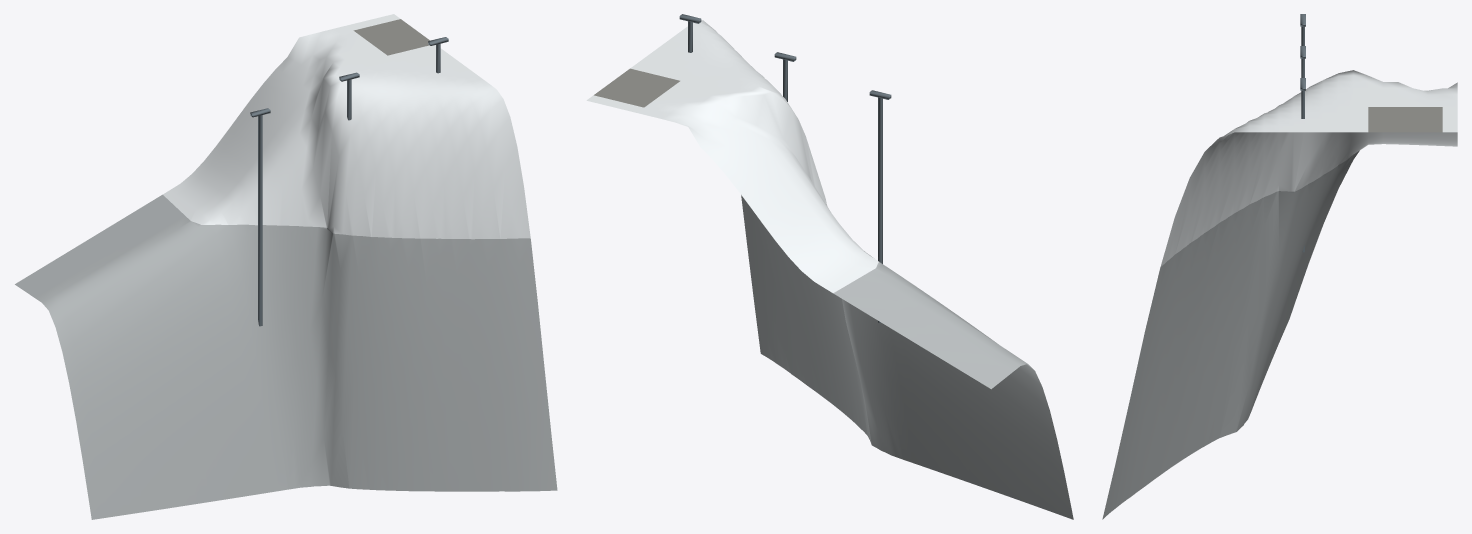
The model's file is alpine-12-12.glb.
The picture shows the model from 3 angles, left to right: view 1: azimuth 30°, elevation 25°; view 2: azimuth 150°, elevation 25°; view 3: azimuth 270°, elevation 25°; orthographic projection. The views are drawn at different scales.
Parts seen in each view (by area): view 1: alpine-12-12; view 2: alpine-12-12; view 3: alpine-12-12.
Boxes of the visible parts, left/top/right/bottom form: alpine-12-12: left=15, top=14, right=557, bottom=519; alpine-12-12: left=586, top=14, right=1073, bottom=519; alpine-12-12: left=1102, top=14, right=1457, bottom=519.
Size of the model in its own units: 256 by 251 by 191.
Materials: 4 (4 with a texture image).
